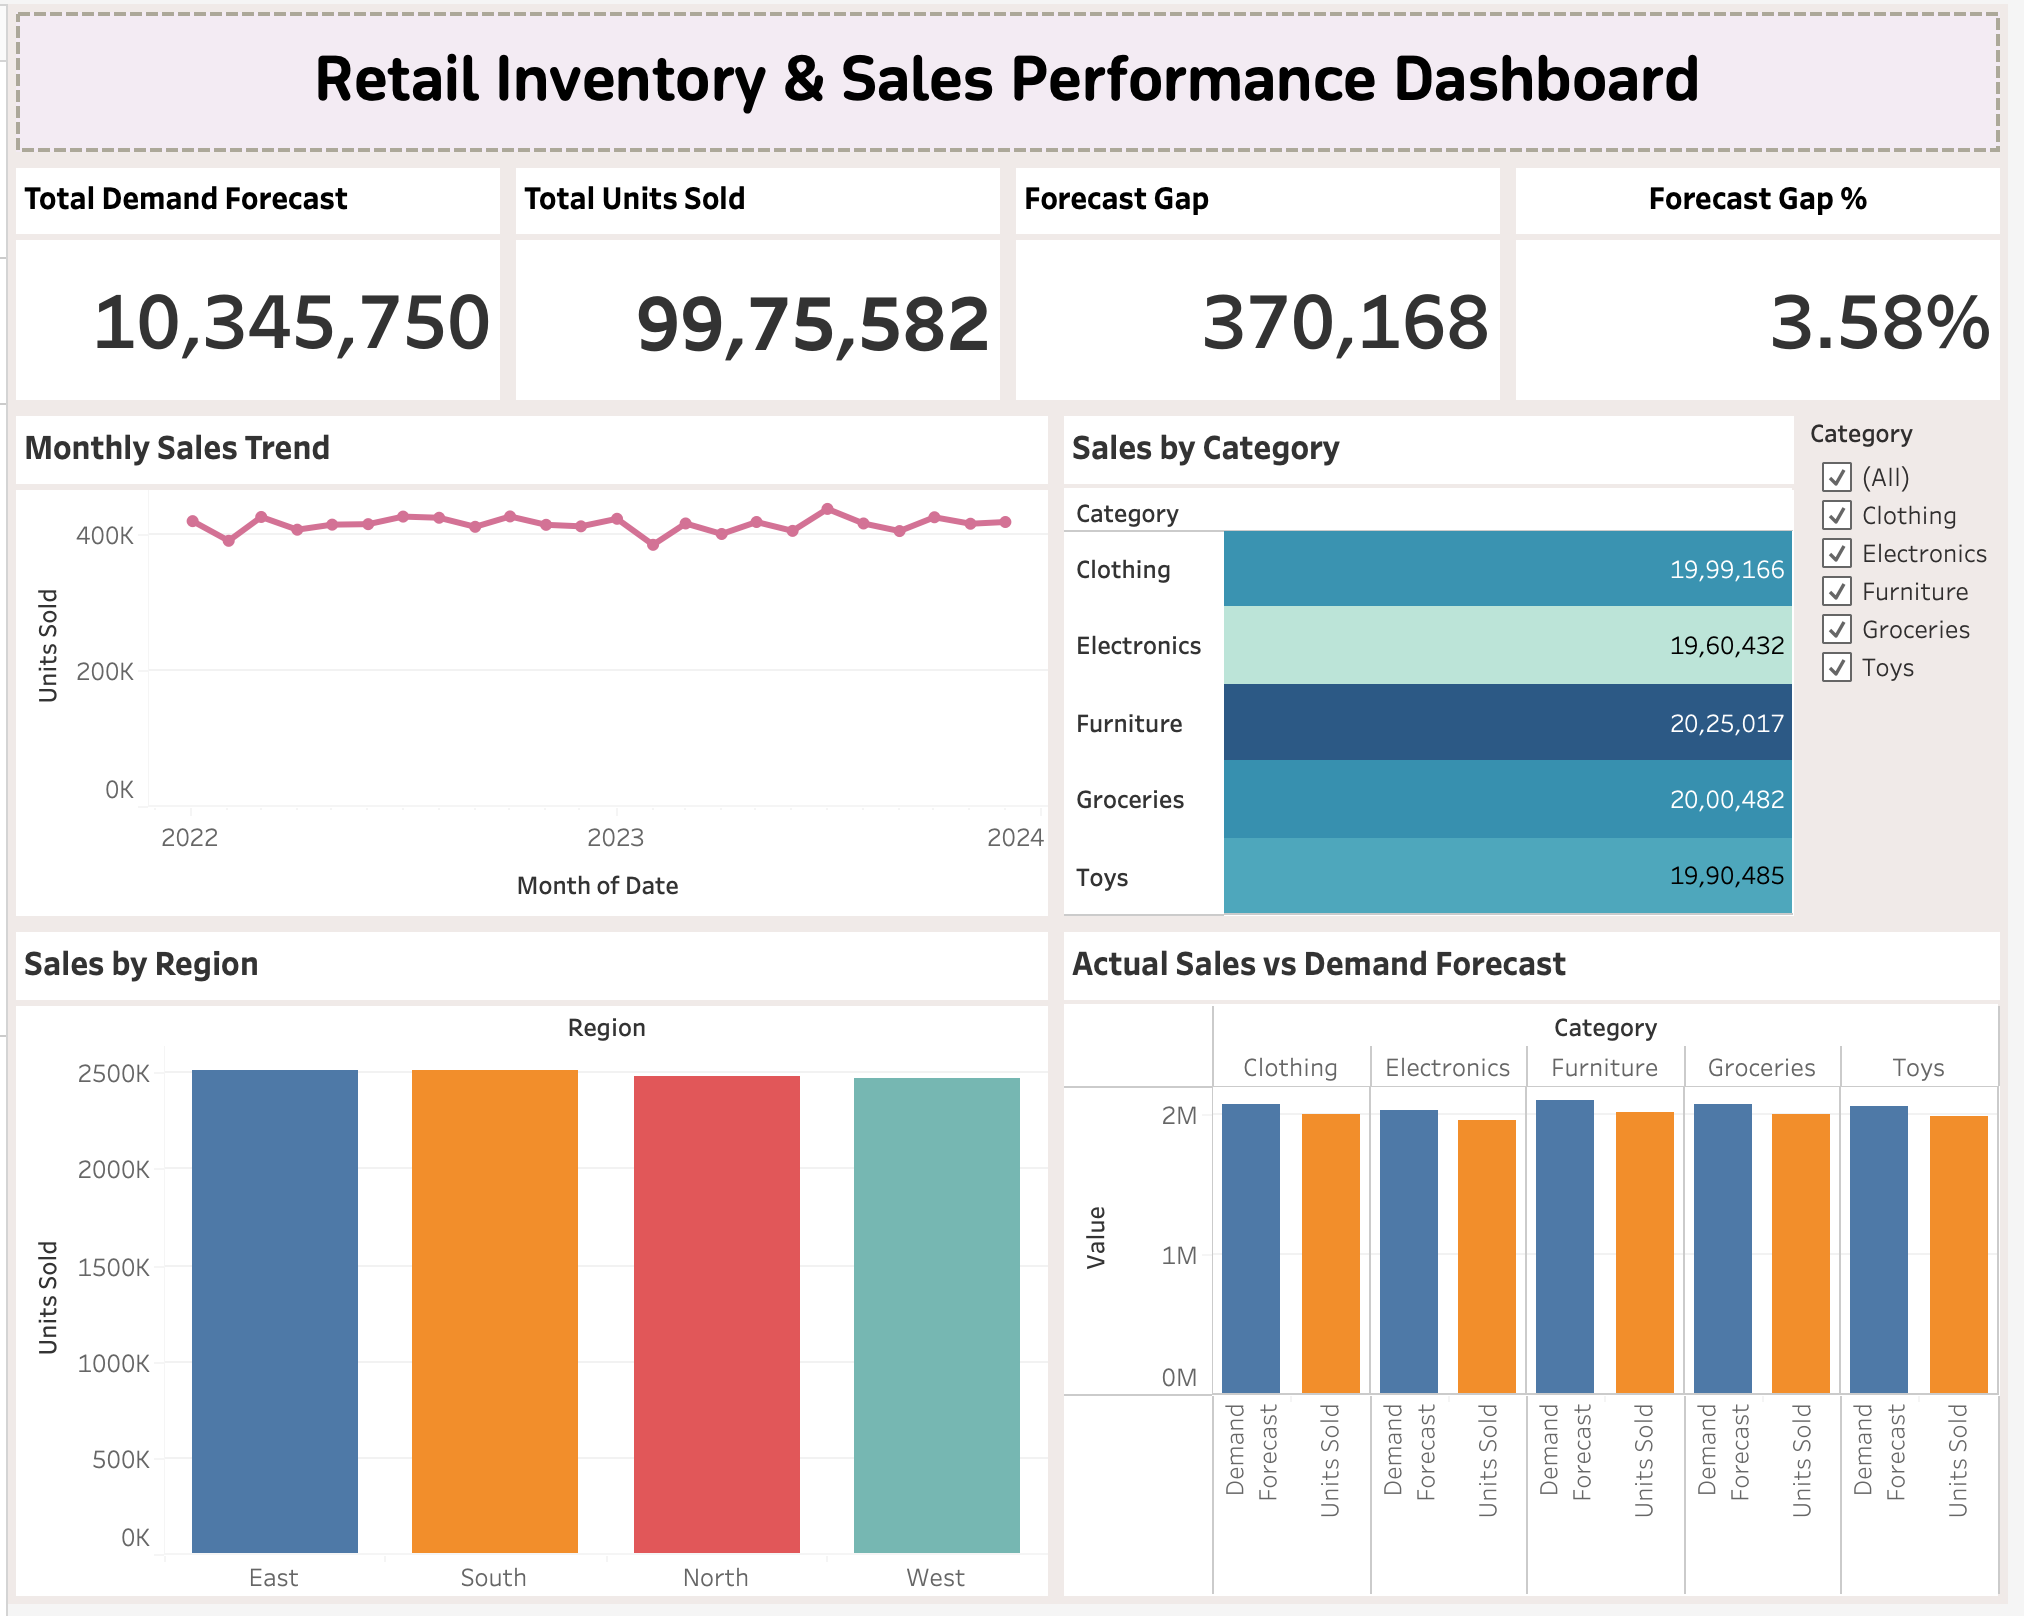

What the dashboard file says about the page in this screenshot:
{"tool":"tableau","page":{"name":"Dashboard 1","canvas":[1000,800],"ordinal":0},"visuals":[{"type":"title","box":[0,0,1000,78]},{"type":"worksheet","title":"Sheet 8","mark":"Automatic","box":[0,78,250,124]},{"type":"worksheet","title":"Sheet 7","mark":"Automatic","box":[250,78,250,124]},{"type":"worksheet","title":"Sheet 9","mark":"Automatic","box":[500,78,250,124]},{"type":"worksheet","title":"Sheet 10","mark":"Automatic","box":[750,78,250,124]},{"type":"worksheet","title":"Sheet 1","mark":"Automatic","rows":["Units Sold"],"cols":["Date"],"box":[0,202,524,258.4]},{"type":"worksheet","title":"Sheet 2","mark":"Square","rows":["Category"],"box":[524,202,373,258.4]},{"type":"filter","title":"Sheet 2","param":"[federated.0f5477c1i1tk4o1cydkhj1j9py2h].[none:Category:nk]","box":[897,202,103,258.4]},{"type":"worksheet","title":"Sheet 3","mark":"Automatic","rows":["Units Sold"],"cols":["Region"],"box":[0,460.4,524,339.6]},{"type":"worksheet","title":"Sheet 4","mark":"Bar","cols":["Category"],"box":[524,460.4,476,339.6]}]}

Visuals, with their boxes in screenshot pixels (x1, y1, x2, y2), scaled from the page's 1000x800 canvas onto the 2024x1616 screenshot:
title: select_region(0, 0, 2023, 158)
"Sheet 8" worksheet: select_region(0, 158, 506, 408)
"Sheet 7" worksheet: select_region(506, 158, 1012, 408)
"Sheet 9" worksheet: select_region(1012, 158, 1518, 408)
"Sheet 10" worksheet: select_region(1518, 158, 2023, 408)
"Sheet 1" worksheet: select_region(0, 408, 1061, 930)
"Sheet 2" worksheet (Square marks): select_region(1061, 408, 1816, 930)
"Sheet 2" filter: select_region(1816, 408, 2023, 930)
"Sheet 3" worksheet: select_region(0, 930, 1061, 1615)
"Sheet 4" worksheet (Bar marks): select_region(1061, 930, 2023, 1615)
